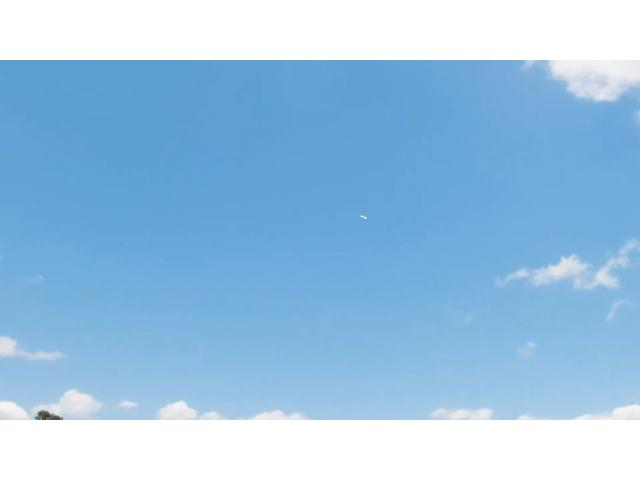Anti-Drone: (352, 208, 378, 229)
